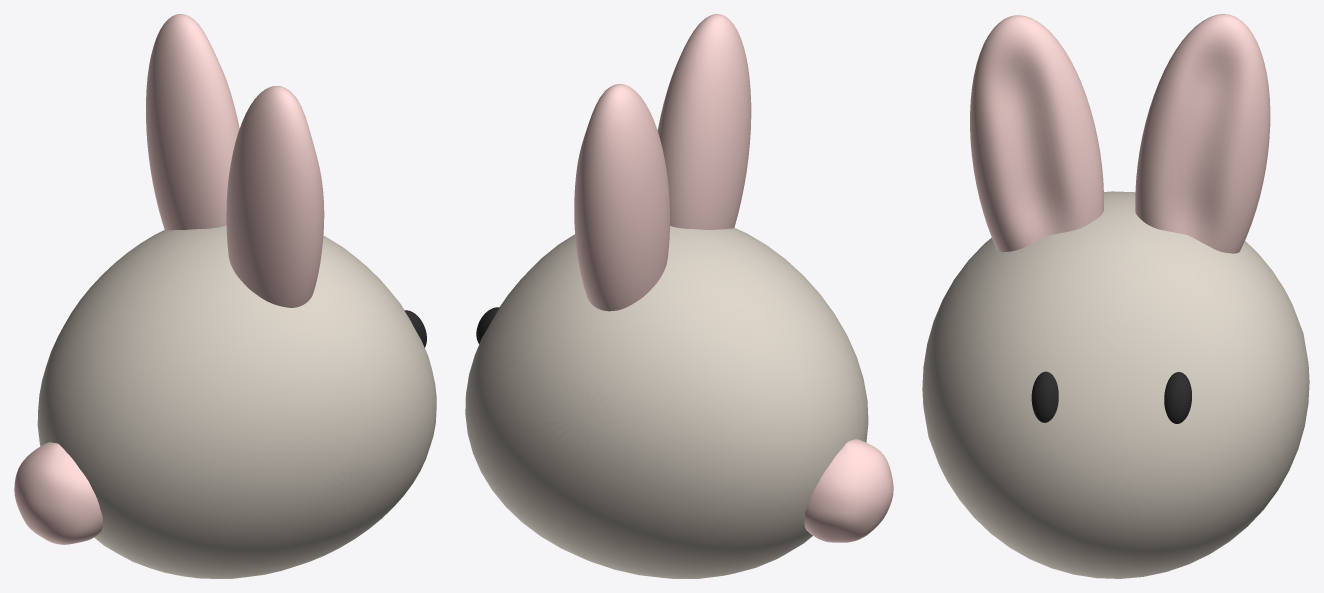
The model's file is emobunny.fbx.
The picture shows the model from 3 angles, left to right: view 1: azimuth 30°, elevation 25°; view 2: azimuth 150°, elevation 25°; view 3: azimuth 270°, elevation 25°; orthographic projection. The views are drawn at different scales.
Parts seen in each view (by area): view 1: bunny body, right ear, bunny tail; view 2: bunny body, right ear, bunny tail; view 3: bunny body, right ear, eyes.
Boxes of the visible parts, x1,y1,x2,y2 form: bunny body: (37,226,436,578); right ear: (146,14,324,307); bunny tail: (14,442,102,544); bunny body: (465,226,868,578); right ear: (574,14,751,311); bunny tail: (804,439,893,542); bunny body: (922,191,1309,578); right ear: (970,14,1270,253); eyes: (1031,371,1191,423).
Bounding box in the file's own units: 108 × 135 × 88.19.
